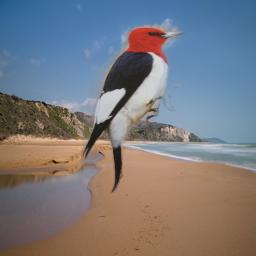Woodpecker: (81, 25, 185, 194)
